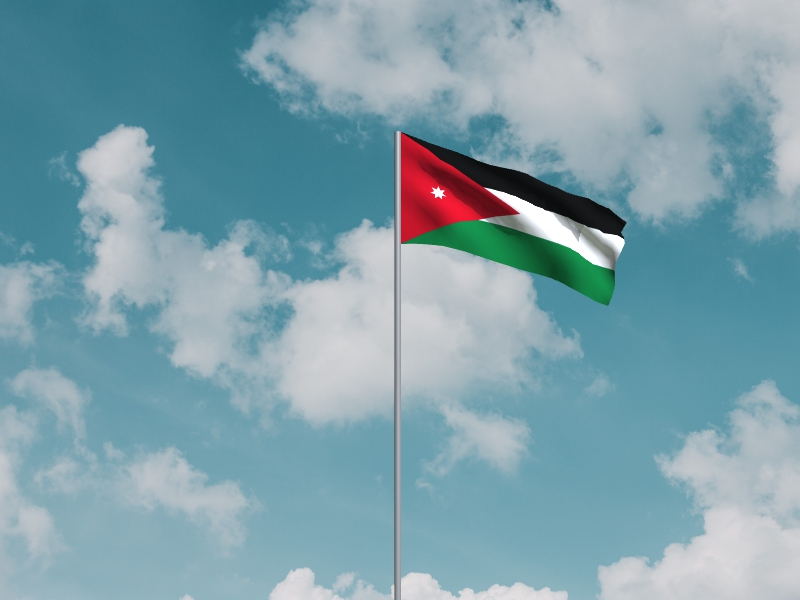jo: (402, 132, 629, 307)
